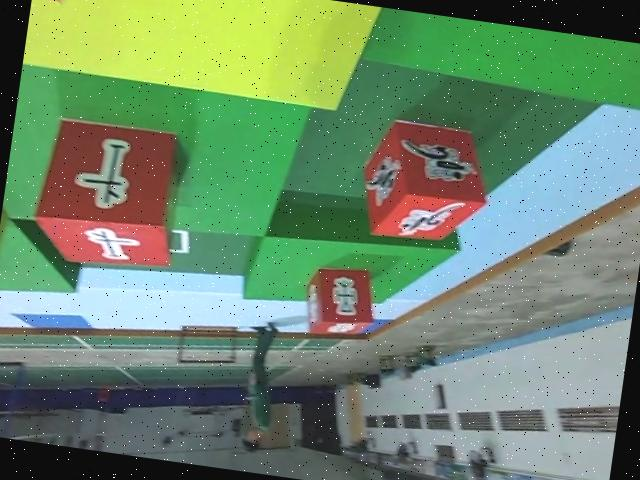R1: (355, 115, 495, 251)
R2 Real: (29, 111, 189, 275), (303, 264, 378, 341)
